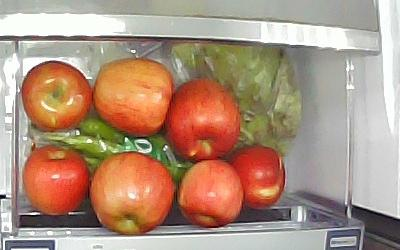apple: (88, 153, 178, 233), (94, 58, 173, 139), (166, 78, 240, 160), (18, 139, 92, 214), (21, 60, 93, 133), (179, 159, 243, 227), (229, 147, 286, 210)
